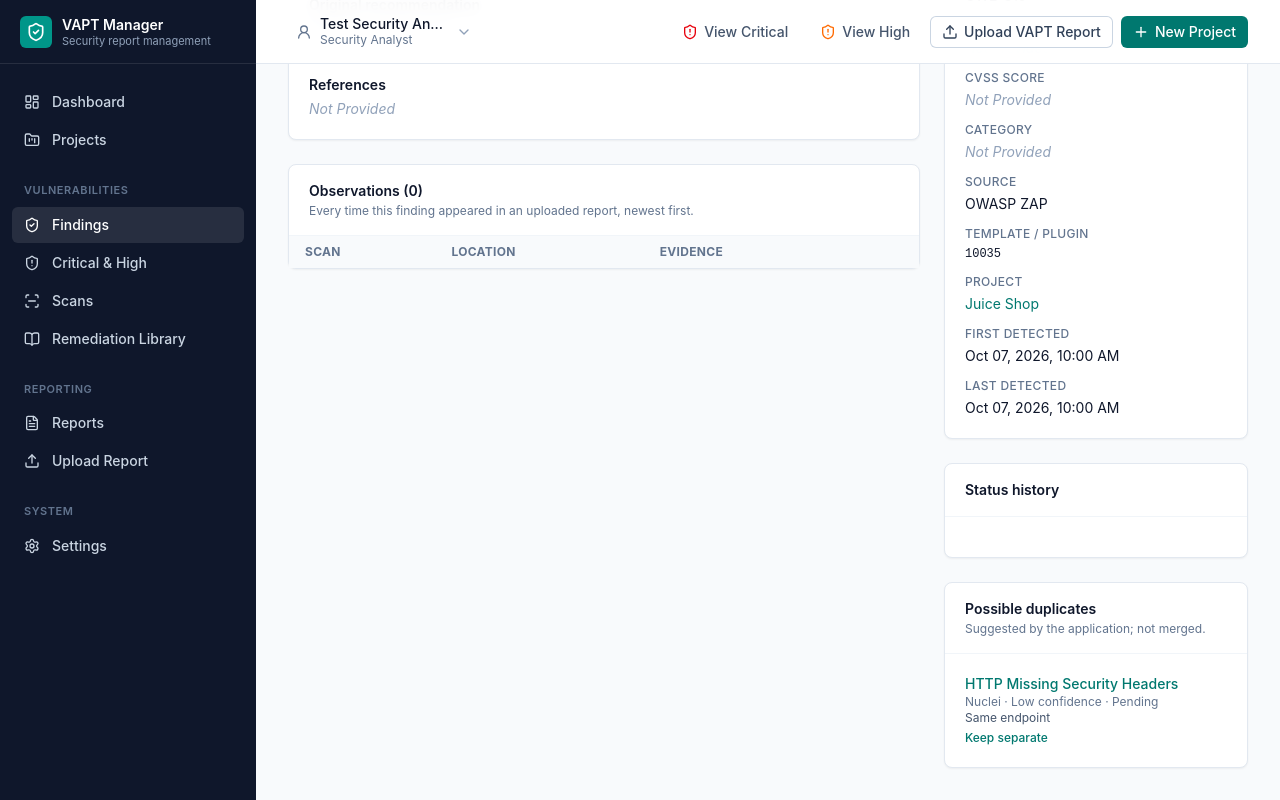
it: Role-based UI › lets an analyst keep a potential duplicate separate, and hides that from a viewer
(page scrolled)
Expected: the link "HTTP Missing Security Headers" is shown, [965,675,1178,692]
Step 1. Click the button "Keep separate" → (1006, 738), box [965,730,1048,746]
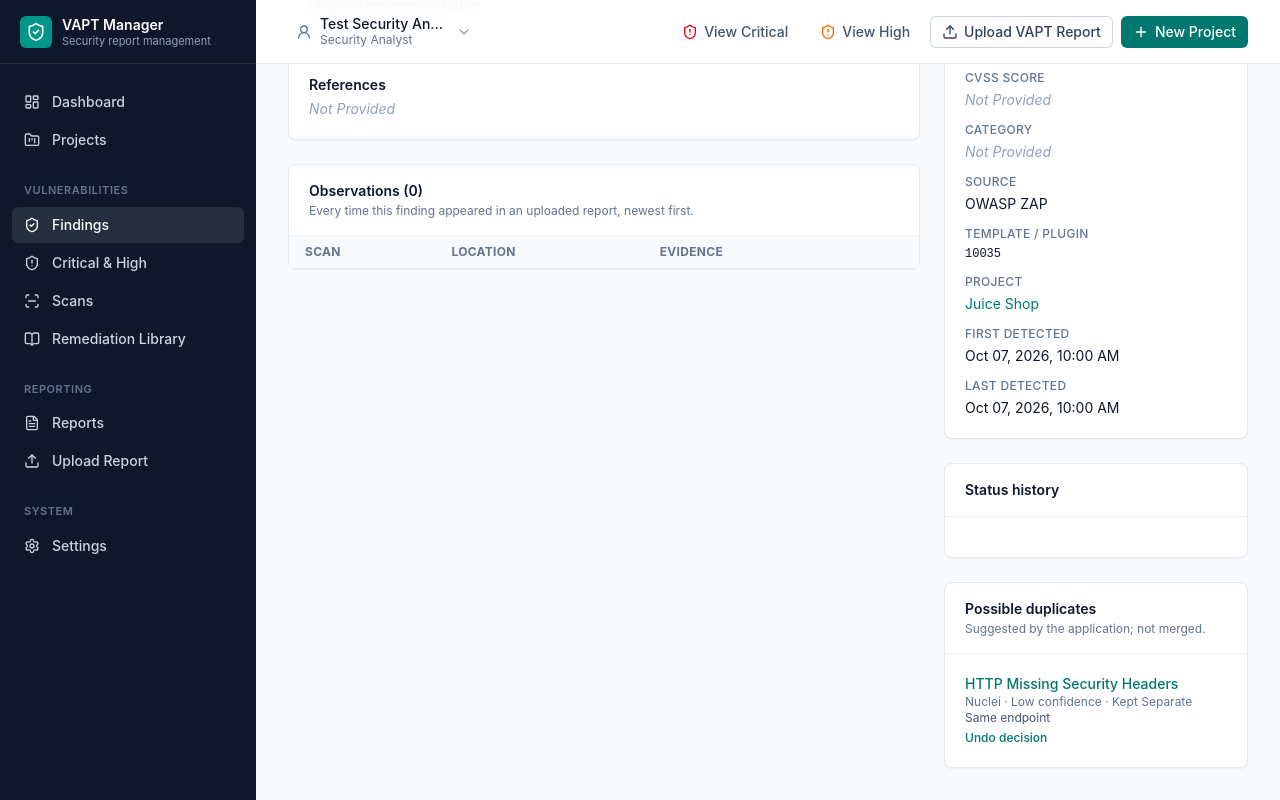
Now the text "Nuclei · Low confidence · Kept Separate" is shown, box [965,694,1227,710]
Now the button "Undo decision" is shown, box [965,730,1047,746]
